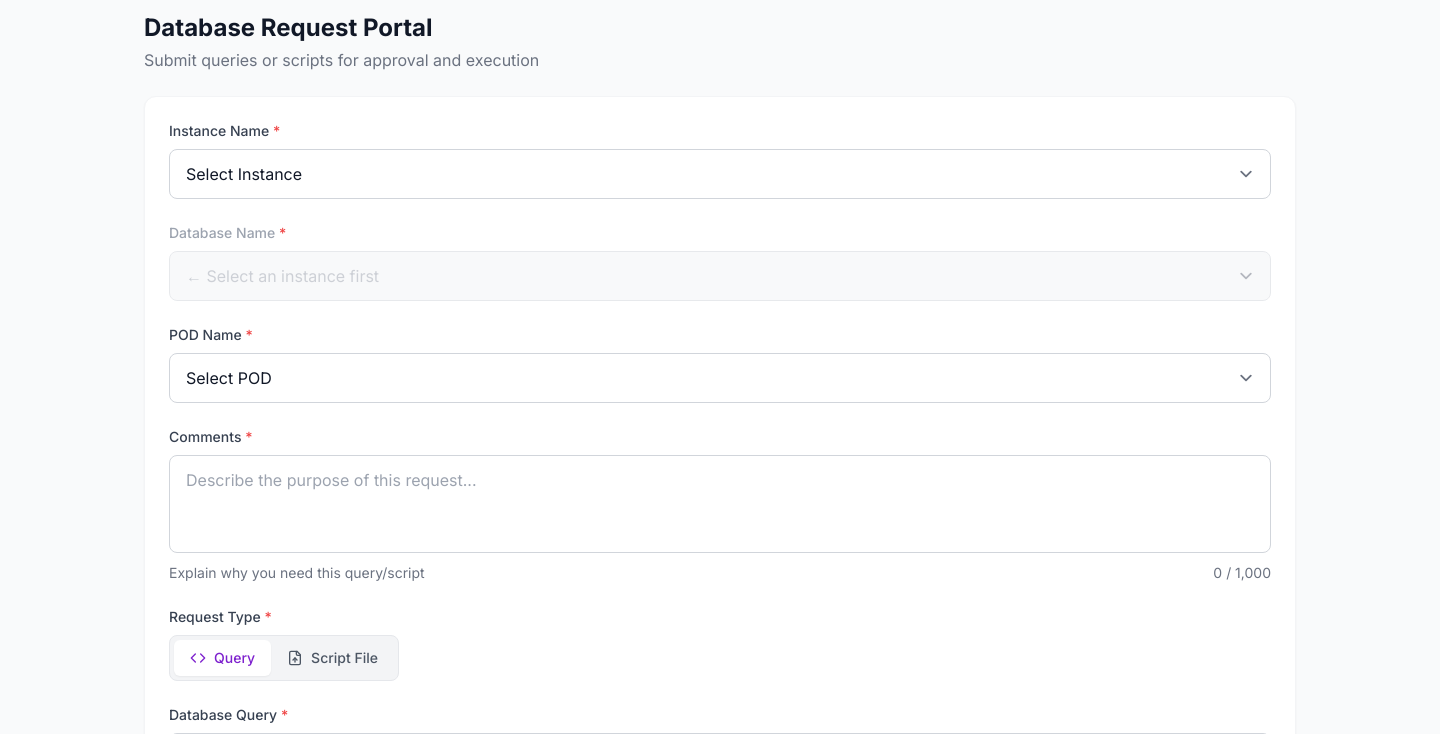
Scenario: QuerySubmissionPage › switches between query and script modes
The width and height of the screenshot is (1440, 734).
# Switch to script mode
Click the button "Script File": x=333, y=658 [271, 640, 394, 676]
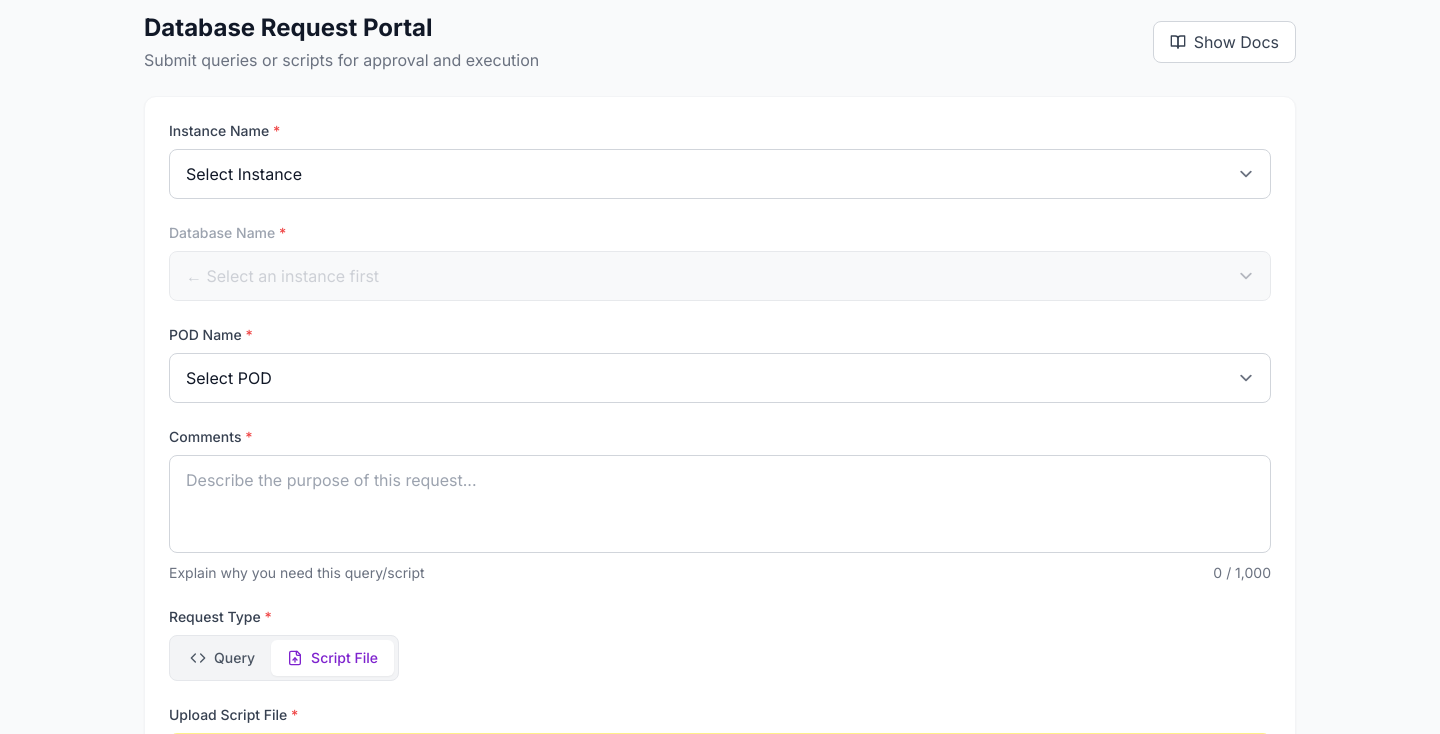
Expected: the field with placeholder "enter your sql or mongodb query here" is not shown
Now the text "Upload Script File *" is shown, box [169, 706, 298, 723]
